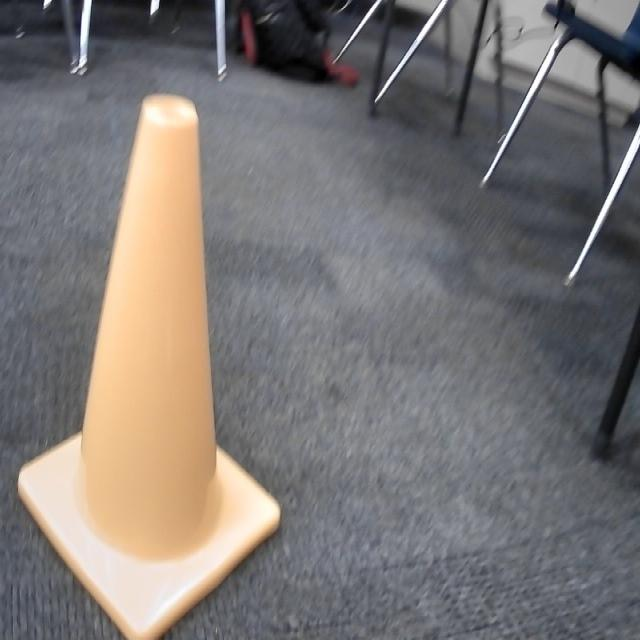cone: (12, 93, 284, 640)
